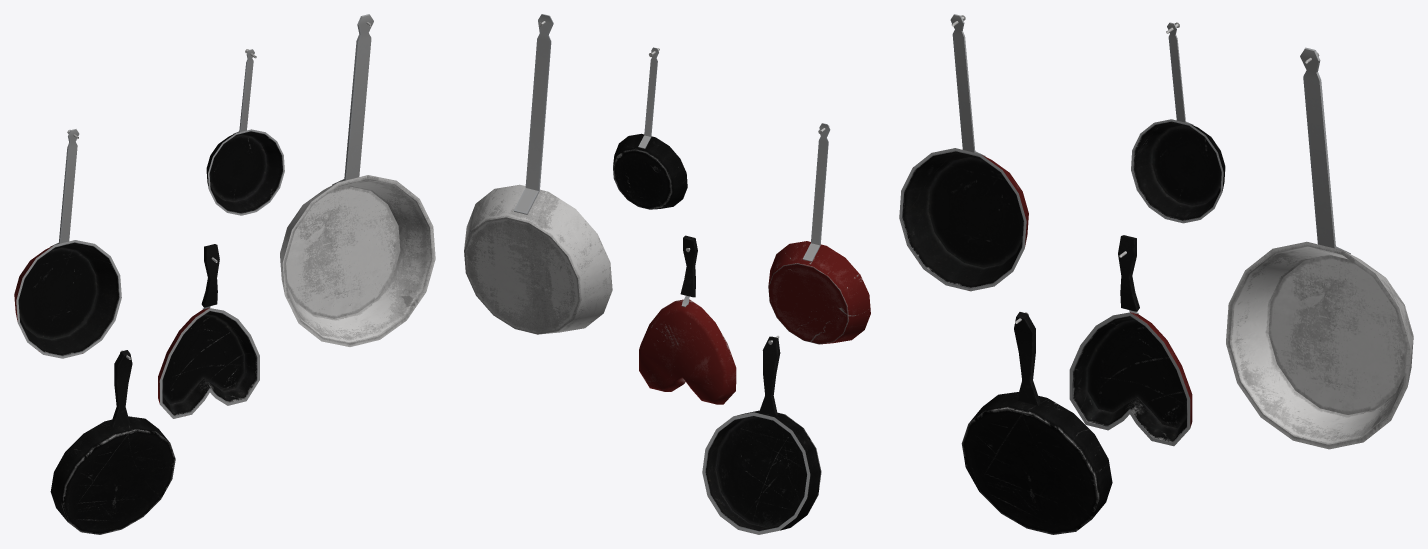
File: Prop_Skillet.fbx
The picture shows the model from 3 angles, left to right: view 1: azimuth 30°, elevation 25°; view 2: azimuth 150°, elevation 25°; view 3: azimuth 330°, elevation 25°; orthographic projection. The views are drawn at different scales.
Parts seen in each view (by area): view 1: Prop_Skillet; view 2: Prop_Skillet; view 3: Prop_Skillet.
Boxes of the visible parts, x1=… form: Prop_Skillet: x1=14, y1=14, x2=435, y2=534; Prop_Skillet: x1=464, y1=14, x2=870, y2=534; Prop_Skillet: x1=899, y1=14, x2=1413, y2=534.
Bounding box in the file's own units: 44.23 × 47.31 × 6.21.
